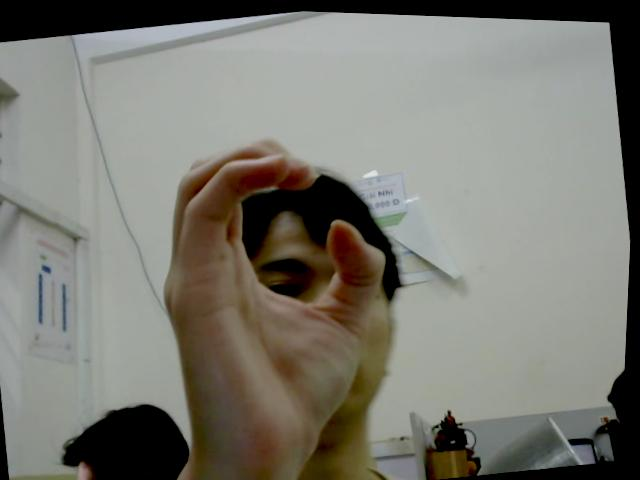C: (137, 114, 420, 475)
